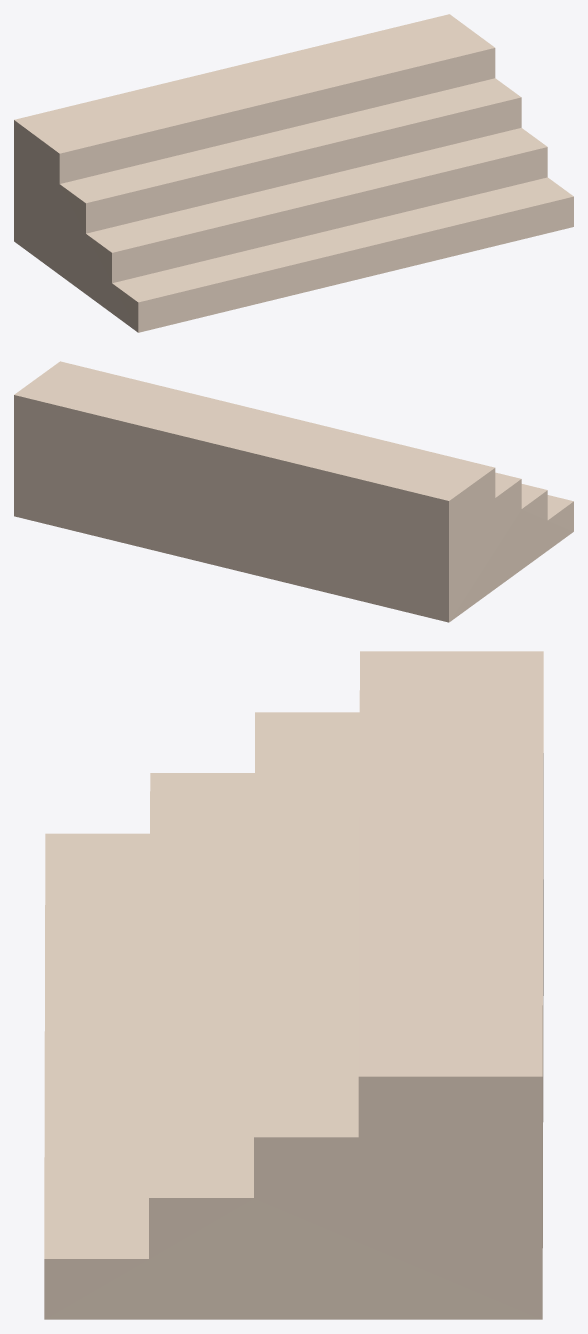
Rendered from empire-stairs-small-empire.glb.
The picture shows the model from 3 angles, top to bottom: view 1: azimuth 30°, elevation 25°; view 2: azimuth 150°, elevation 25°; view 3: azimuth 270°, elevation 25°; orthographic projection. The views are drawn at different scales.
Parts seen in each view (by area): view 1: SM_Stairs_Small_Empire; view 2: SM_Stairs_Small_Empire; view 3: SM_Stairs_Small_Empire.
Boxes of the visible parts, left/top/right/bottom form: SM_Stairs_Small_Empire: left=14, top=14, right=573, bottom=332; SM_Stairs_Small_Empire: left=14, top=361, right=573, bottom=622; SM_Stairs_Small_Empire: left=44, top=651, right=543, bottom=1319.
Size of the model in its own units: 3 by 0.8017 by 1.49.
